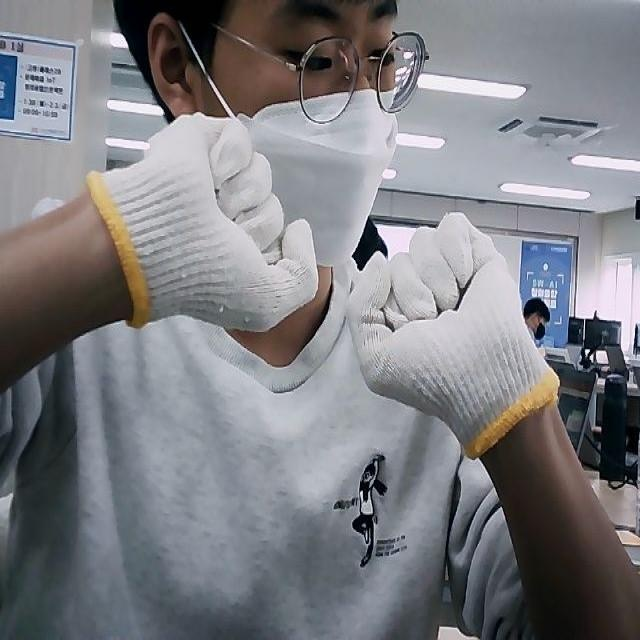Guantes: (349, 211, 558, 457), (88, 112, 320, 330)
